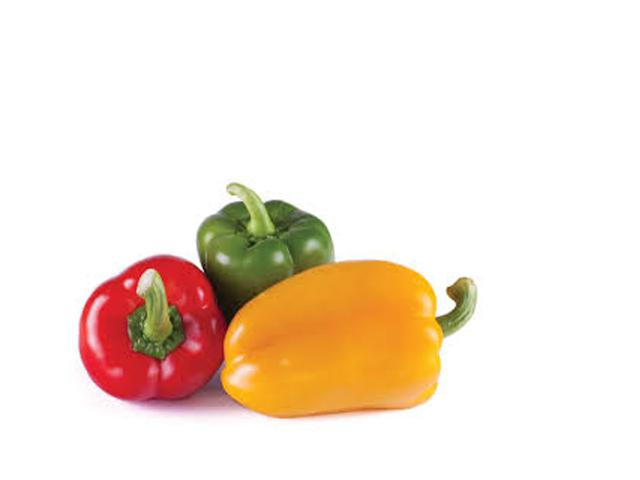bell_pepper: (182, 180, 345, 320)
